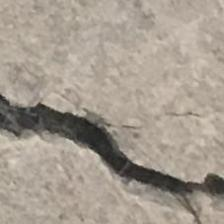Crack: (9, 97, 224, 224)
